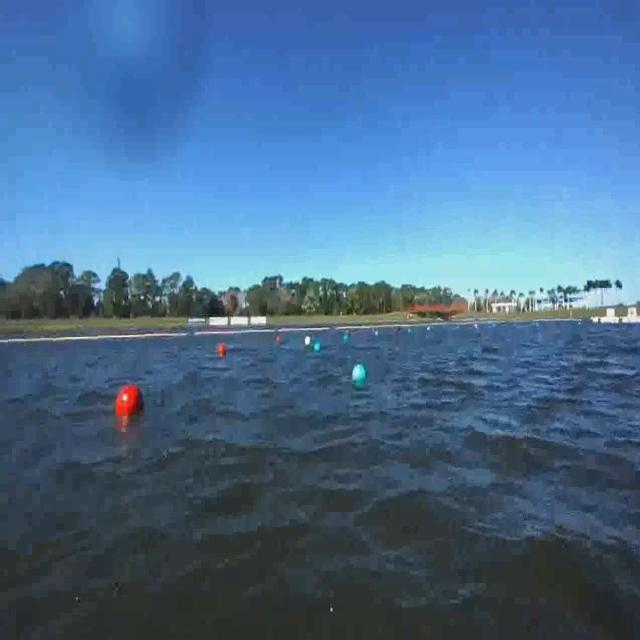green-buoy: (352, 363, 371, 390), (314, 338, 322, 355)
red-buoy: (116, 386, 144, 420), (218, 344, 226, 357)
